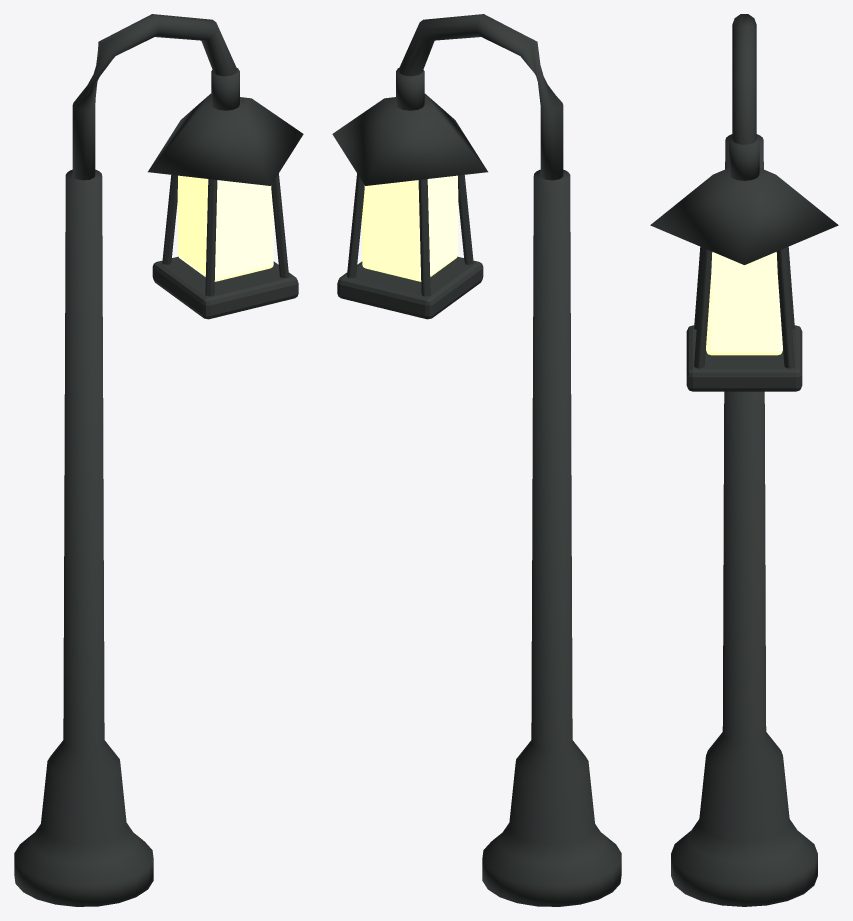
Rendered from 11_lamp_post.glb.
3 views of the same model, side by side, from view 1: azimuth 30°, elevation 25°; view 2: azimuth 150°, elevation 25°; view 3: azimuth 270°, elevation 25° (orthographic). The views are drawn at different scales.
Parts seen in each view (by area): view 1: Lamp base, Lantern roof, Lantern glow, Lamp curved arm, Lantern base, Lantern corner, Lantern cap, Lantern corner.002, Lantern corner.001; view 2: Lamp base, Lantern roof, Lantern glow, Lamp curved arm, Lantern base, Lantern corner.001, Lantern cap, Lantern corner.003, Lantern corner; view 3: Lamp base, Lantern roof, Lantern glow, Lantern base, Lamp curved arm, Lantern corner.002, Lantern corner.003, Lantern cap.
Part boxes in pixels (box(x1,y1,x2,y2)): Lamp base: box(14, 169, 153, 906); Lantern roof: box(148, 93, 303, 185); Lantern glow: box(177, 175, 273, 281); Lamp curved arm: box(72, 14, 236, 180); Lantern base: box(152, 256, 298, 319); Lantern corner: box(205, 179, 217, 296); Lantern cap: box(211, 68, 239, 110); Lantern corner.002: box(271, 173, 288, 278); Lantern corner.001: box(162, 175, 177, 264); Lamp base: box(482, 169, 621, 906); Lantern roof: box(332, 93, 487, 185); Lantern glow: box(362, 175, 458, 281); Lamp curved arm: box(399, 14, 563, 180); Lantern base: box(337, 256, 483, 319); Lantern corner.001: box(418, 179, 430, 296); Lantern cap: box(396, 68, 424, 110); Lantern corner.003: box(347, 173, 364, 278); Lantern corner: box(458, 175, 473, 264); Lamp base: box(671, 134, 817, 906); Lantern roof: box(650, 168, 838, 264); Lantern glow: box(706, 252, 782, 355); Lantern base: box(686, 325, 802, 391); Lamp curved arm: box(732, 14, 756, 144); Lantern corner.002: box(694, 248, 712, 368); Lantern corner.003: box(776, 248, 794, 368); Lantern cap: box(729, 136, 759, 180).
Bounding box in the file's own units: 0.97 × 2.79 × 0.54.
